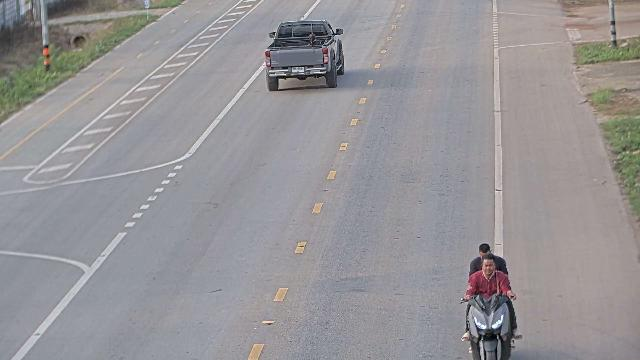motorcycle: (458, 240, 518, 359)
pickup-truck: (264, 19, 345, 91)
